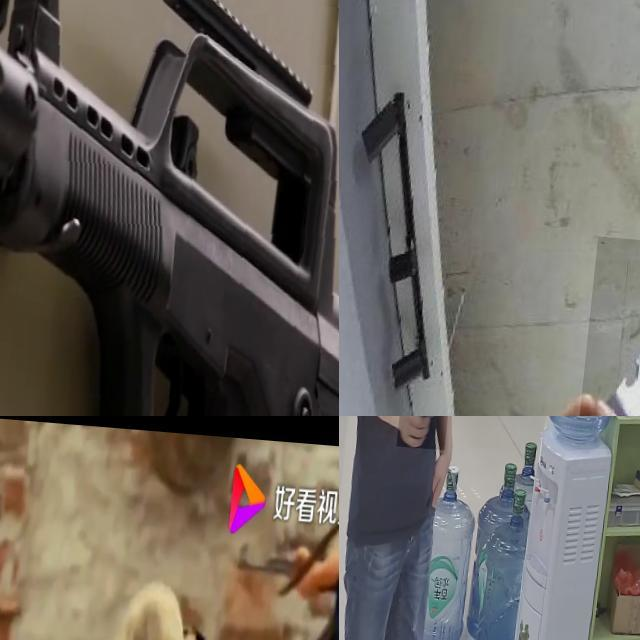-: (584, 230, 640, 416)
gun-knife-thesis - v11 Yolov5 augmented: (0, 0, 339, 416), (403, 416, 459, 459)
